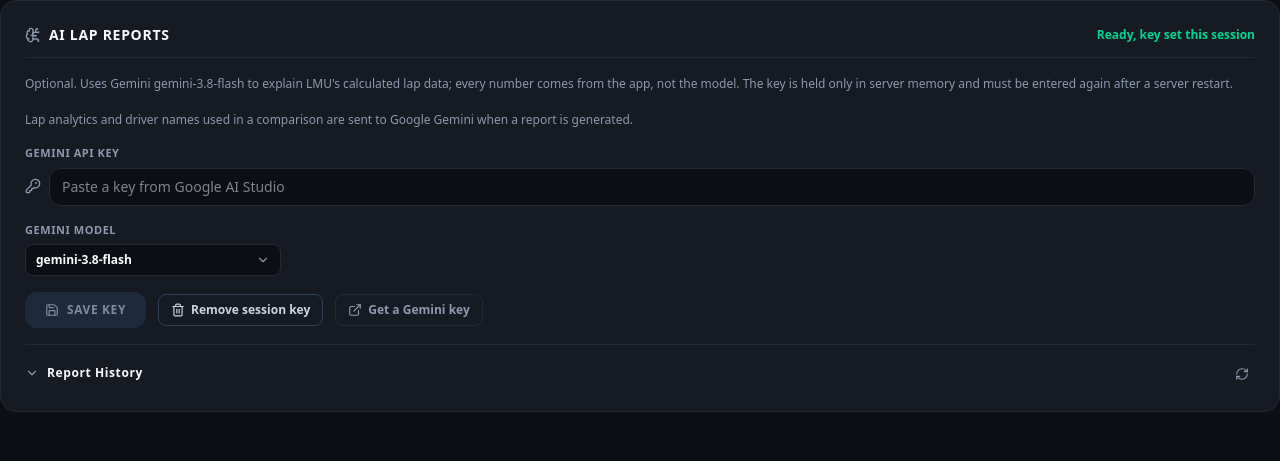
Test: AISettingsCard component › removes session key when confirmed
This screenshot has width=1280, height=461.
Expected: the text "Ready, key set this session" is shown, [1097, 27, 1255, 43]
Click the button "Remove session key" at (241, 310), box [158, 294, 323, 326]
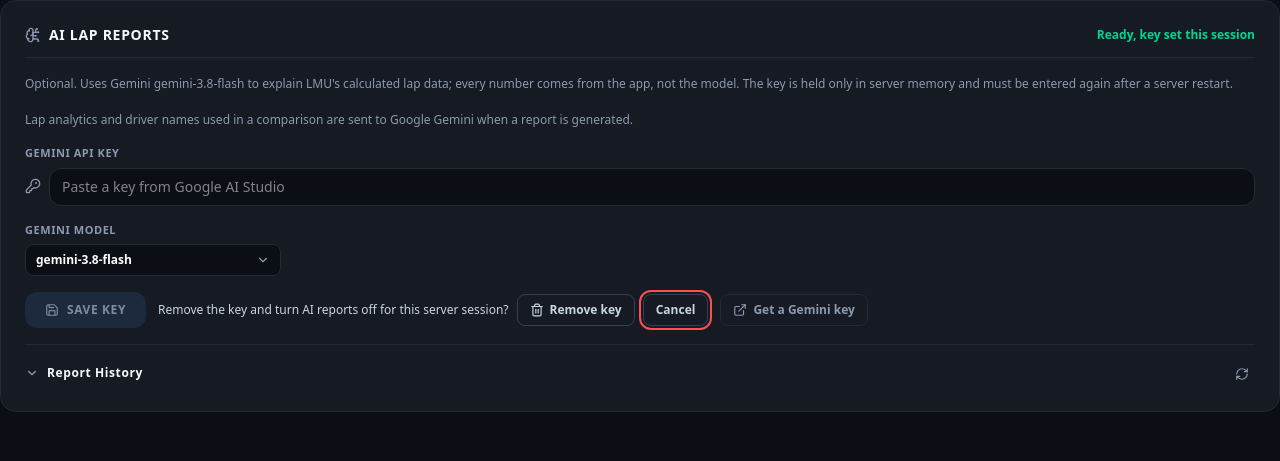
Expected: the text "turn AI reports off" is shown, [158, 301, 508, 318]
Click the button "Remove key" at (576, 310), box [516, 294, 635, 326]
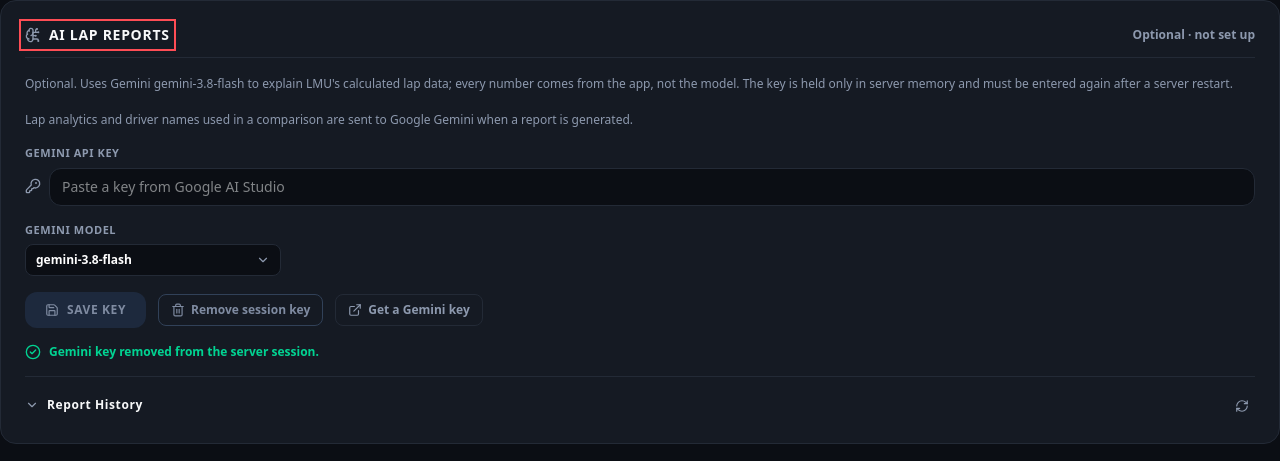
Expected: the text "Gemini key removed from the server session." is shown, [49, 344, 319, 360]
